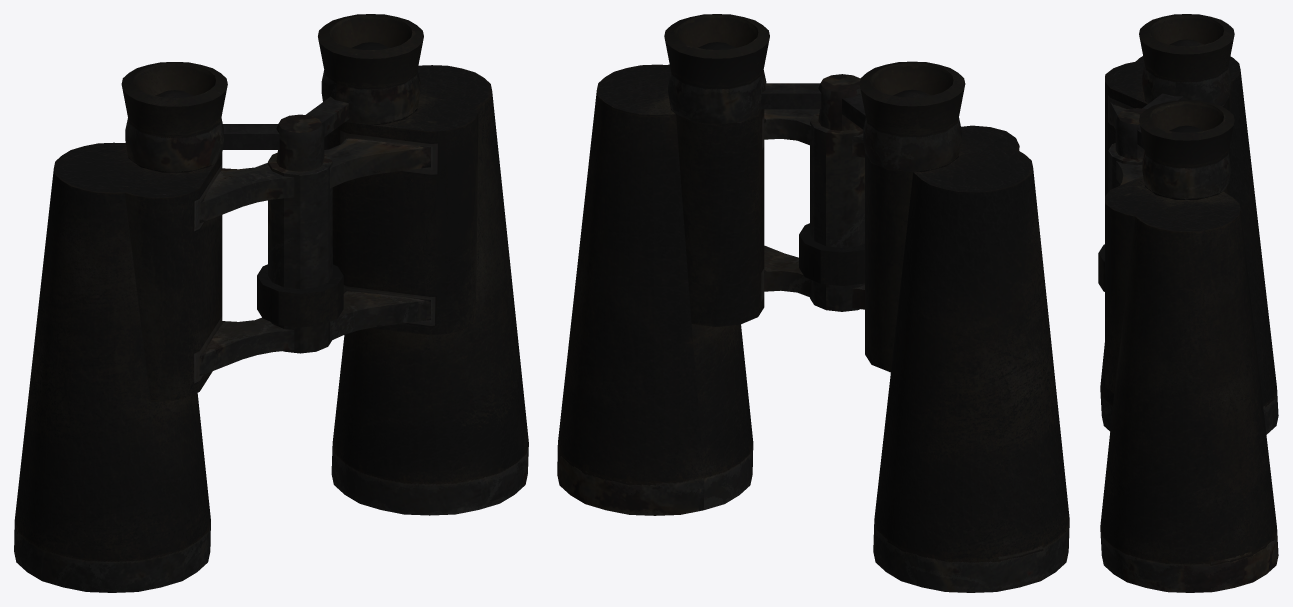
File: Binoculars.FBX
The picture shows the model from 3 angles, left to right: view 1: azimuth 30°, elevation 25°; view 2: azimuth 150°, elevation 25°; view 3: azimuth 270°, elevation 25°; orthographic projection. The views are drawn at different scales.
Visible parts, largest first — view 1: binoculars; view 2: binoculars; view 3: binoculars.
Boxes of the visible parts, x1,y1,x2,y2 form: binoculars: (14, 14, 528, 592); binoculars: (557, 14, 1069, 592); binoculars: (1098, 14, 1278, 592).
Bounding box in the file's own units: 213 × 192 × 75.59.
Materials: 1 (1 with a texture image).
